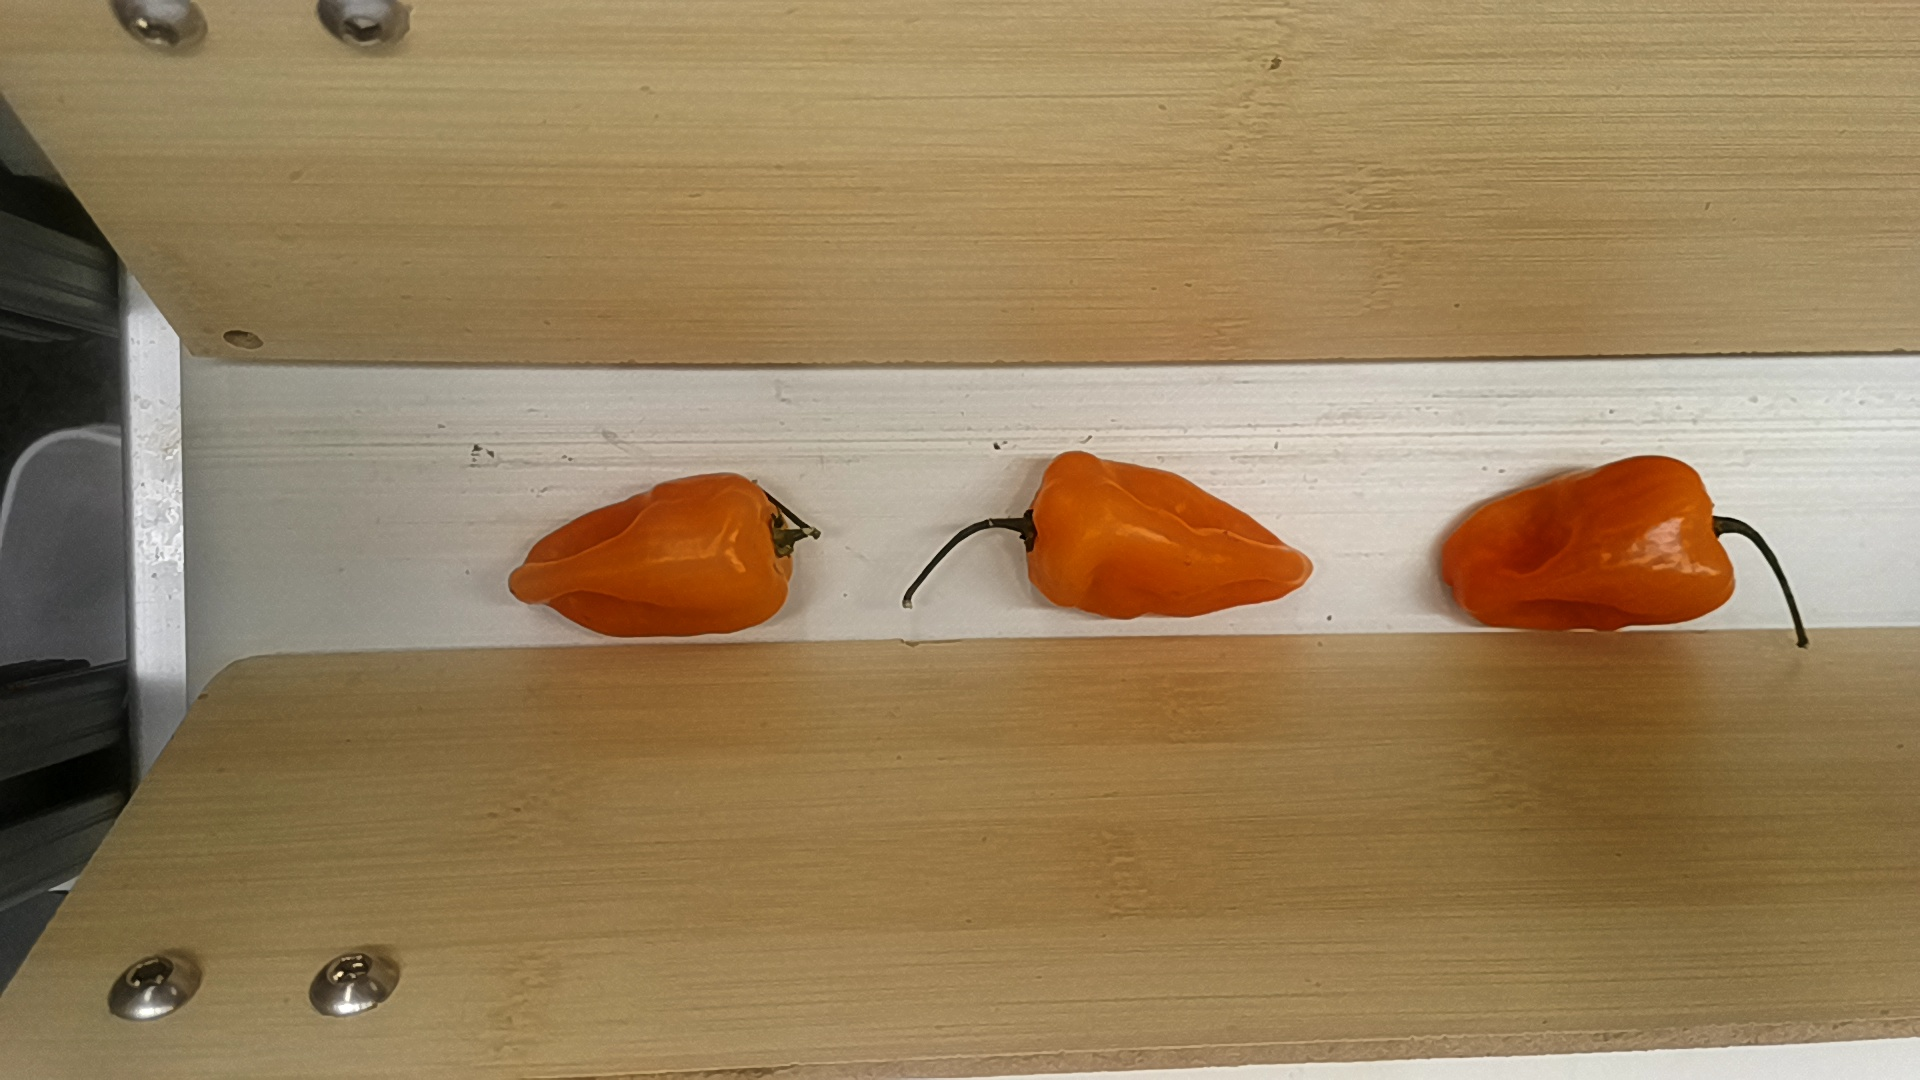Cut Point: (1017, 440, 1067, 616), (1688, 454, 1735, 624), (746, 468, 796, 624)
